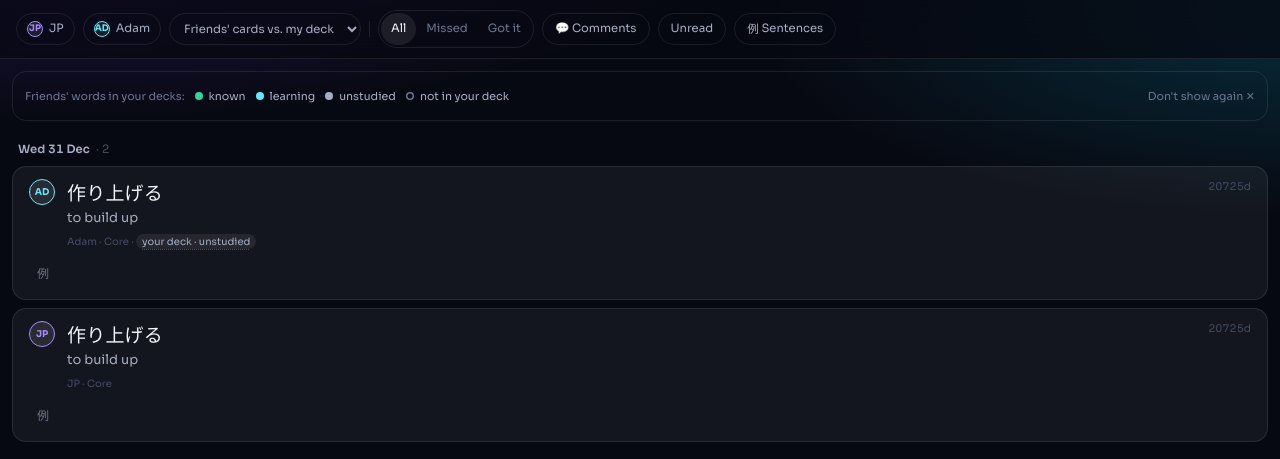
Test: vs. my deck filter › names the person when one is picked, and hides on your own cards
The image size is (1280, 459).
Click the button with test id "chip-adam" at (122, 29), box [83,13,161,45]
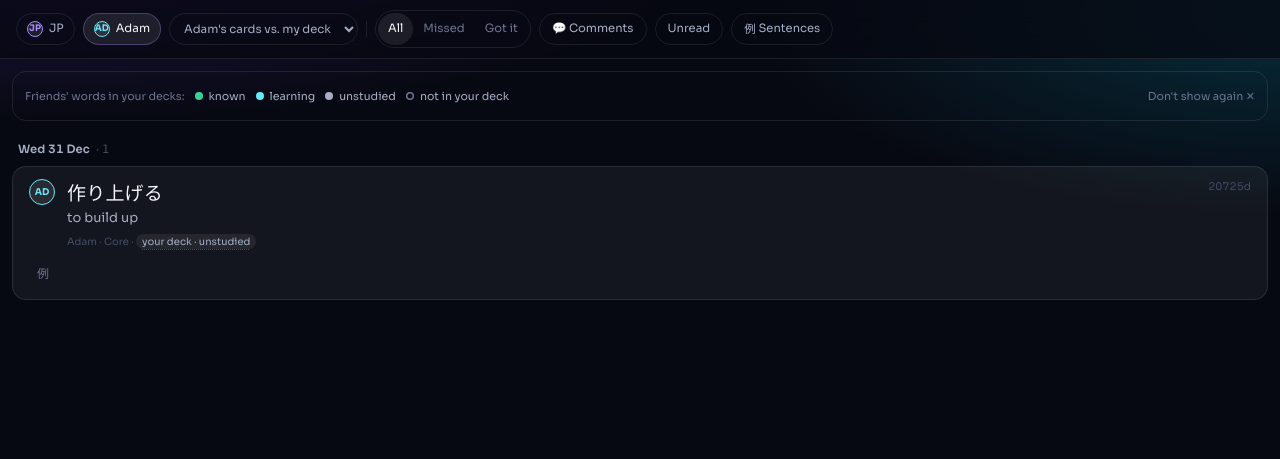
Click the button with test id "chip-jp" at (45, 29), box [16,13,75,45]
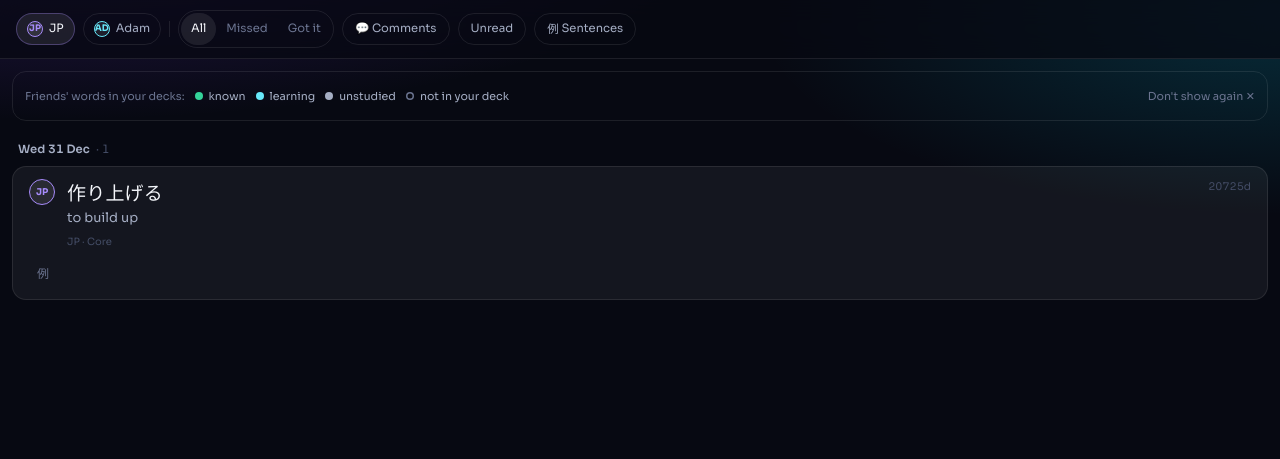
Expected: the dropdown with test id "filter-deck" is gone
